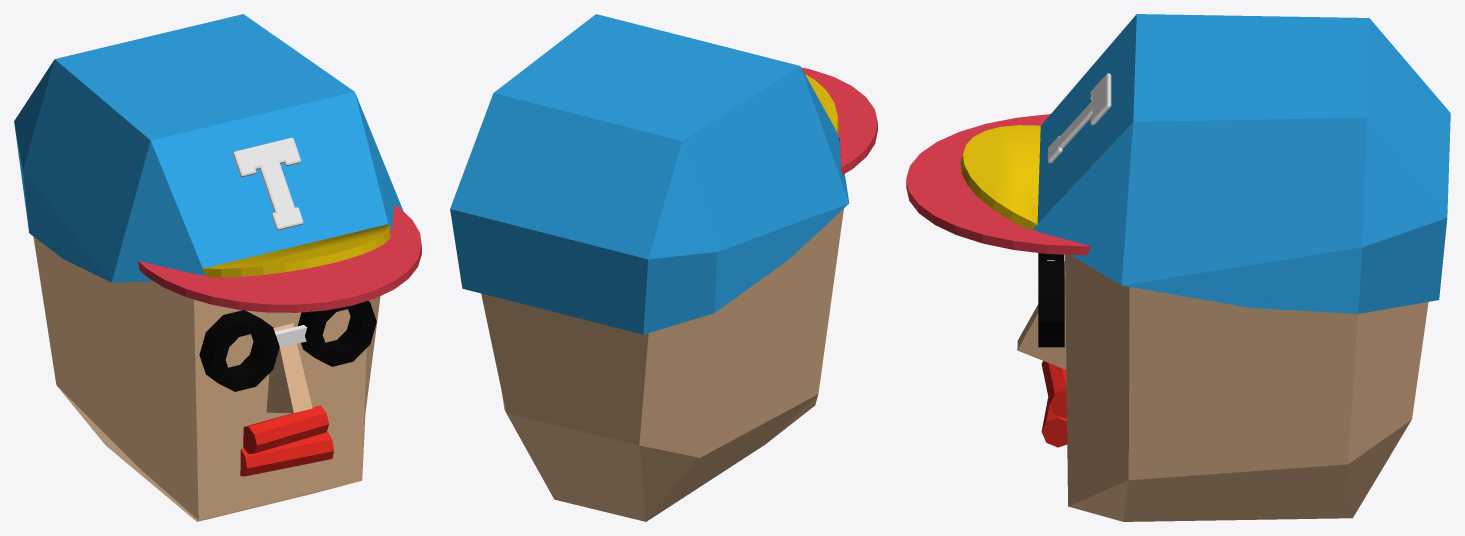
The picture shows the model from 3 angles, left to right: view 1: azimuth 30°, elevation 25°; view 2: azimuth 150°, elevation 25°; view 3: azimuth 270°, elevation 25°; orthographic projection. The views are drawn at different scales.
Visible parts, largest first — view 1: cap, head, yellowCap, glassR, glassL, lipTop, nose, lipBottom, glassFrame; view 2: cap, head, yellowCap; view 3: cap, head, yellowCap, glassL, nose, lipTop, lipBottom.
Part boxes in pixels (x1,y1,x2,y2): cap: [14, 14, 421, 312]; head: [33, 236, 380, 521]; yellowCap: [202, 137, 390, 277]; glassR: [199, 310, 279, 391]; glassL: [297, 301, 376, 366]; lipTop: [243, 405, 328, 453]; nose: [266, 323, 312, 412]; lipBottom: [240, 431, 333, 476]; glassFrame: [275, 325, 307, 347]; cap: [450, 14, 877, 334]; head: [481, 209, 843, 521]; yellowCap: [805, 74, 839, 133]; cap: [906, 14, 1450, 313]; head: [1065, 254, 1428, 521]; yellowCap: [960, 73, 1111, 229]; glassL: [1038, 261, 1064, 347]; nose: [1017, 265, 1066, 369]; lipTop: [1041, 361, 1066, 418]; lipBottom: [1041, 397, 1067, 447].
Bounding box in the file's own units: 0.4192 × 0.5393 × 0.62.
